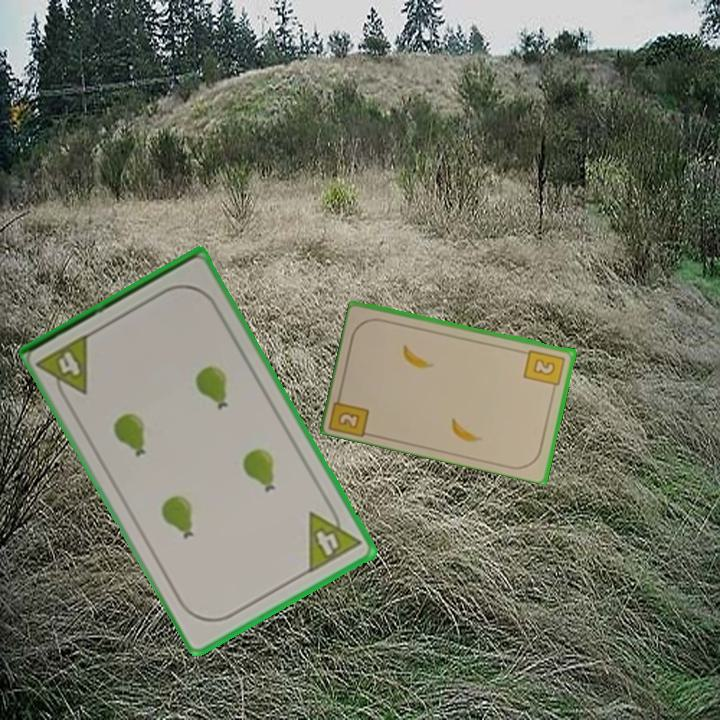2b: (328, 387, 373, 438), (521, 346, 568, 394)
4p: (34, 329, 94, 406), (305, 498, 364, 576)
